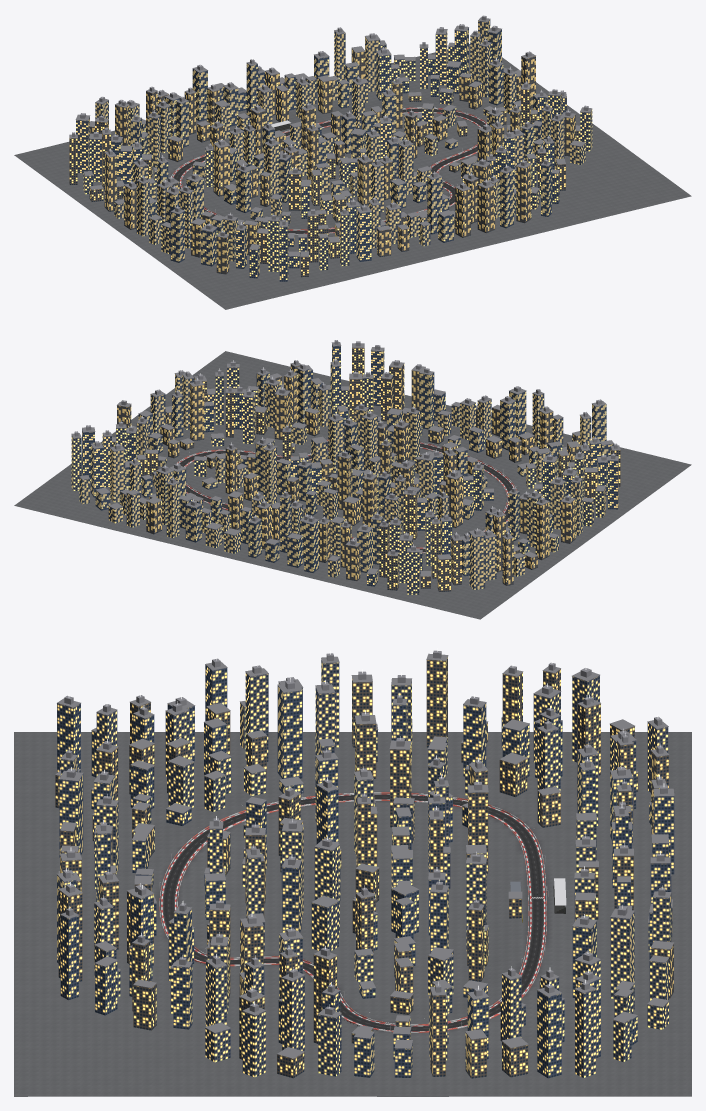
The model's file is cidade.glb.
3 renders of one model, top to bottom at view 1: azimuth 30°, elevation 25°; view 2: azimuth 150°, elevation 25°; view 3: azimuth 270°, elevation 25°, orthographic. The views are drawn at different scales.
Visible parts, largest first — view 1: Buildings-col, Terrain-col, Road-col, Barrier-col; view 2: Buildings-col, Terrain-col, Road-col; view 3: Buildings-col, Terrain-col, Road-col, Curbs, Barrier-col.
Part boxes in pixels (<box>): Buildings-col: <box>69,14,592,281</box>; Terrain-col: <box>14,44,691,309</box>; Road-col: <box>173,108,485,233</box>; Barrier-col: <box>171,107,486,234</box>; Buildings-col: <box>71,338,620,594</box>; Terrain-col: <box>14,351,691,619</box>; Road-col: <box>179,441,513,552</box>; Buildings-col: <box>55,648,674,1078</box>; Terrain-col: <box>14,732,691,1096</box>; Road-col: <box>162,794,543,1031</box>; Curbs: <box>161,794,545,1031</box>; Barrier-col: <box>159,792,546,1032</box>.
Size of what is drawn, in the model's own units: 840 by 106 by 660.
11 materials, 8 textured.
